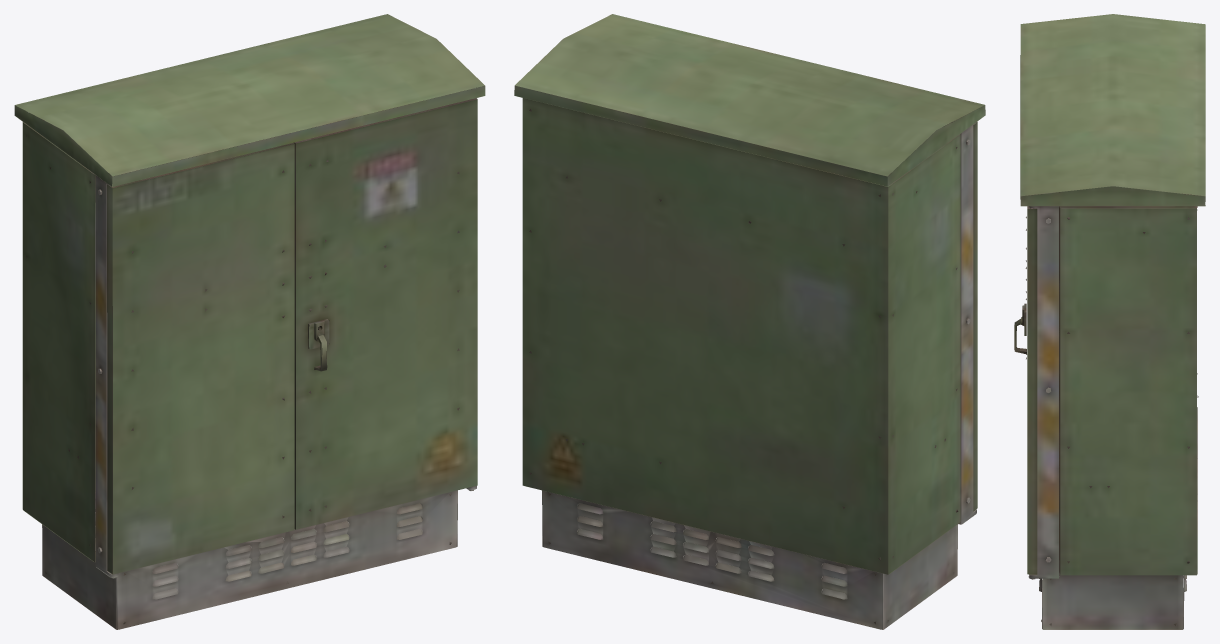
The model's file is utility_box.glb.
3 views of the same model, side by side, from view 1: azimuth 30°, elevation 25°; view 2: azimuth 150°, elevation 25°; view 3: azimuth 270°, elevation 25° (orthographic). The views are drawn at different scales.
Visible parts, largest first — view 1: utility_box_02; view 2: utility_box_02; view 3: utility_box_02.
Boxes of the visible parts, <box> form: utility_box_02: <box>14,14,485,629</box>; utility_box_02: <box>514,14,985,629</box>; utility_box_02: <box>1014,14,1205,629</box>.
Size of the model in its own units: 0.9178 by 1.12 by 0.4303.
1 material, 1 textured.
